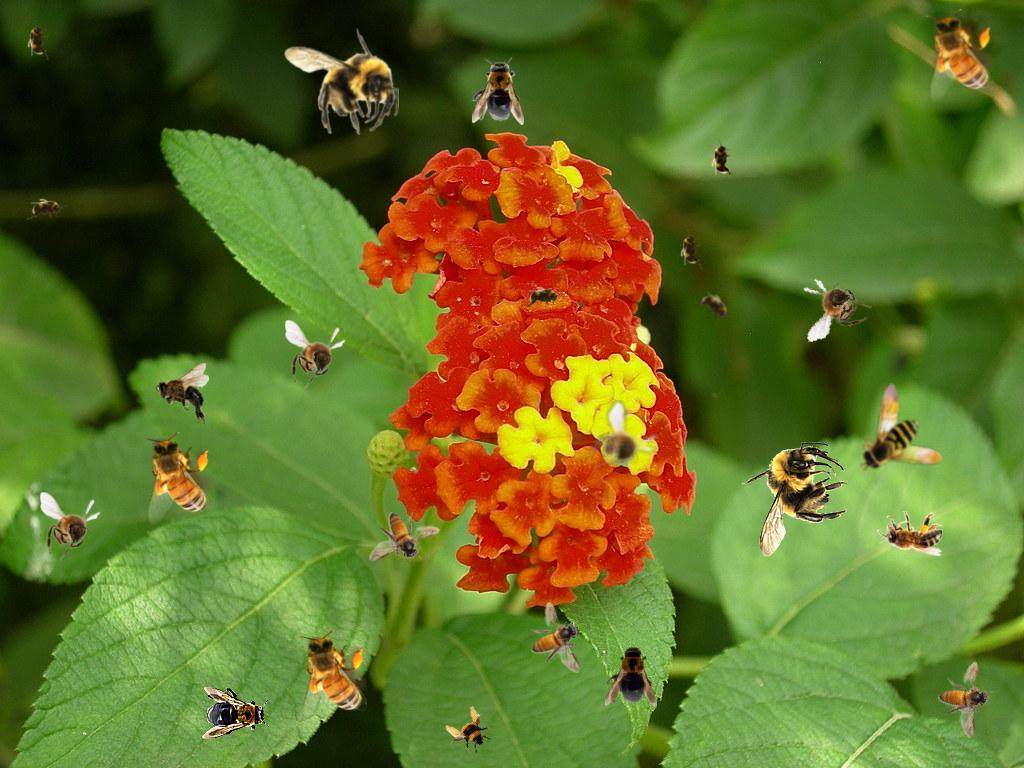Bee: (284, 28, 399, 135), (741, 442, 848, 557), (577, 398, 668, 492), (860, 383, 942, 471), (927, 653, 1005, 740), (144, 432, 212, 525), (299, 630, 367, 723), (926, 9, 994, 102), (794, 267, 877, 343), (285, 320, 346, 390), (40, 492, 101, 562), (438, 701, 502, 765), (531, 602, 581, 673), (369, 512, 440, 562), (605, 641, 657, 709), (472, 57, 524, 125), (202, 687, 270, 739), (156, 363, 209, 425), (877, 511, 943, 556), (692, 285, 738, 329), (524, 286, 564, 308), (27, 198, 67, 220), (680, 229, 702, 269), (711, 139, 733, 179), (27, 20, 49, 60)
